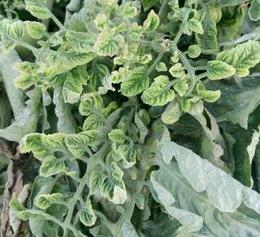Tomato leaf yellow virus: (25, 46, 83, 86), (225, 34, 260, 83), (132, 78, 179, 113), (102, 160, 130, 213), (88, 28, 133, 58), (118, 66, 155, 101), (15, 130, 56, 161), (75, 92, 107, 131), (200, 56, 232, 86), (0, 17, 24, 54), (16, 0, 52, 21), (63, 133, 92, 155)
